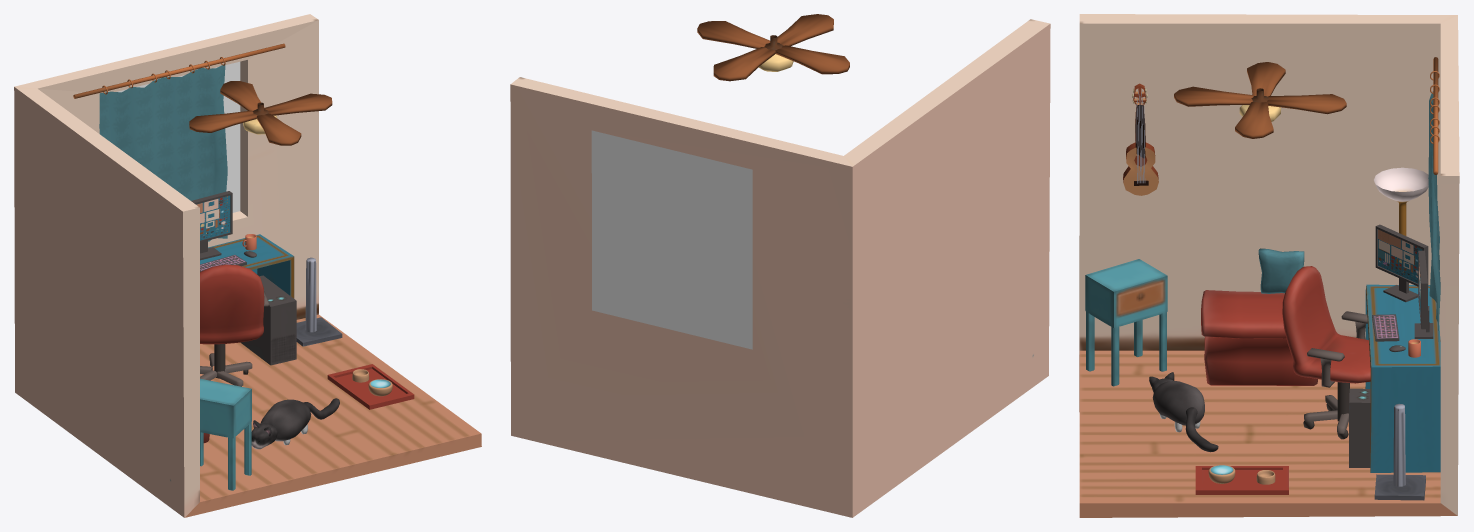
The model's file is mainscene.glb.
3 renders of one model, left to right at view 1: azimuth 30°, elevation 25°; view 2: azimuth 150°, elevation 25°; view 3: azimuth 270°, elevation 25°, orthographic. The views are drawn at different scales.
Visible parts, largest first — view 1: WallsandFloor, Curtain, Seat, FanBlades, SideTable, Computer, Desk, FoodStand, WallsandFloor.001, PrincessBody, ScreenF, Rod (+3 smaller); view 2: WallsandFloor, WallsandFloor.001, FanBlades; view 3: WallsandFloor, Desk, Ottoman, SideTable, Seat, FanBlades, FoodStand, Guitalele, FloorLamp, Computer, Curtain, PrincessBody (+13 smaller).
Boxes of the visible parts, <box> form: WallsandFloor: <box>14,14,481,517</box>; Curtain: <box>99,64,227,241</box>; Seat: <box>200,264,264,344</box>; FanBlades: <box>189,81,332,145</box>; SideTable: <box>200,378,251,490</box>; Computer: <box>240,275,296,365</box>; Desk: <box>200,234,294,298</box>; FoodStand: <box>327,364,414,409</box>; WallsandFloor.001: <box>116,61,240,212</box>; PrincessBody: <box>261,399,311,441</box>; ScreenF: <box>196,195,230,240</box>; Rod: <box>73,43,285,98</box>; WallsandFloor: <box>510,19,1050,517</box>; WallsandFloor.001: <box>591,130,752,349</box>; FanBlades: <box>697,14,849,81</box>; WallsandFloor: <box>1079,14,1459,517</box>; Desk: <box>1365,284,1440,472</box>; Ottoman: <box>1201,290,1317,385</box>; SideTable: <box>1085,259,1167,386</box>; Seat: <box>1282,266,1370,383</box>; FanBlades: <box>1174,62,1346,138</box>; FoodStand: <box>1195,466,1288,494</box>; Guitalele: <box>1123,83,1158,195</box>; FloorLamp: <box>1374,167,1428,235</box>; Computer: <box>1349,388,1370,467</box>; Curtain: <box>1428,91,1440,341</box>; PrincessBody: <box>1152,381,1204,425</box>.
Bounding box in the file's own units: 2.12 × 2.16 × 2.11.
6 materials, 5 textured.
